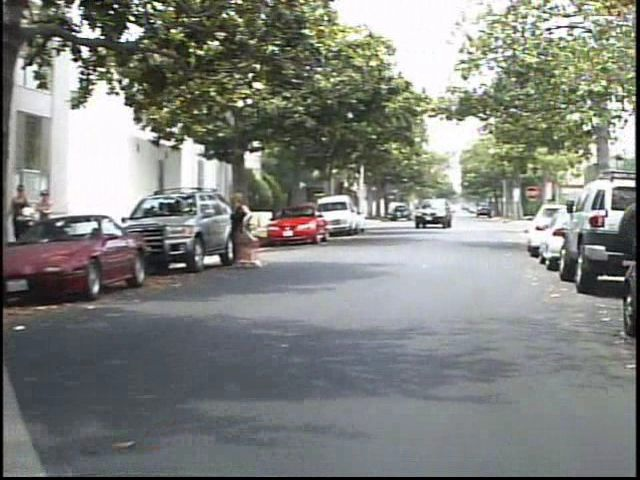person: (234, 190, 268, 275), (18, 182, 46, 256), (47, 184, 72, 250)
